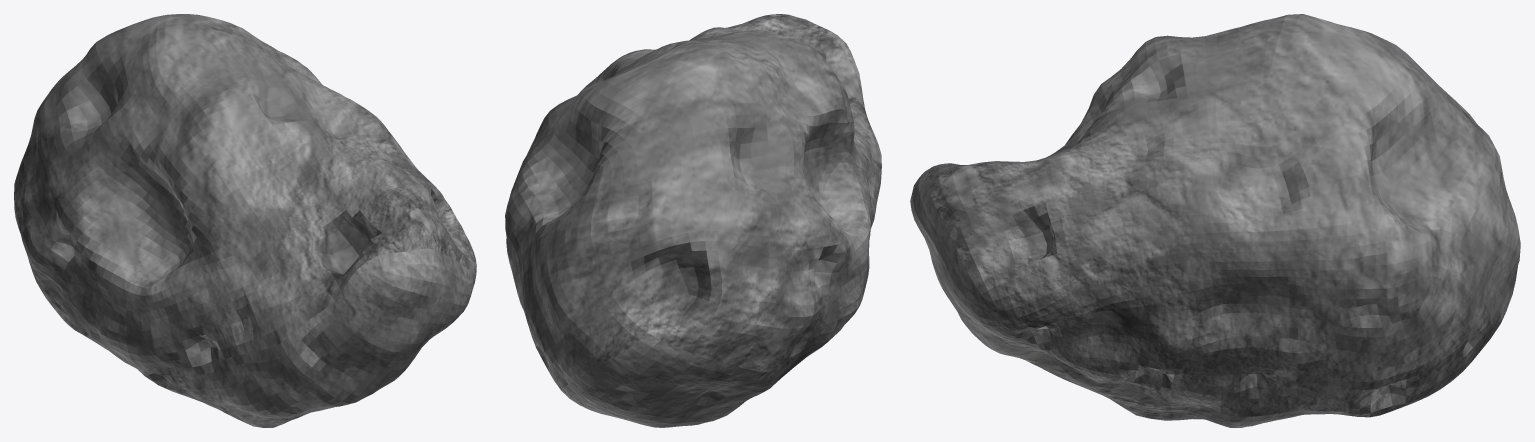
File: Rock.fbx
3 renders of one model, left to right at view 1: azimuth 30°, elevation 25°; view 2: azimuth 150°, elevation 25°; view 3: azimuth 270°, elevation 25°, orthographic. The views are drawn at different scales.
Parts seen in each view (by area): view 1: Rock:Group1; view 2: Rock:Group1; view 3: Rock:Group1.
Part boxes in pixels (box(x1,y1,x2,y2)): Rock:Group1: box(14, 14, 476, 427); Rock:Group1: box(505, 14, 881, 427); Rock:Group1: box(910, 14, 1520, 427).
Bounding box in the file's own units: 1.94 × 2.22 × 3.19.
1 material, 1 textured.
